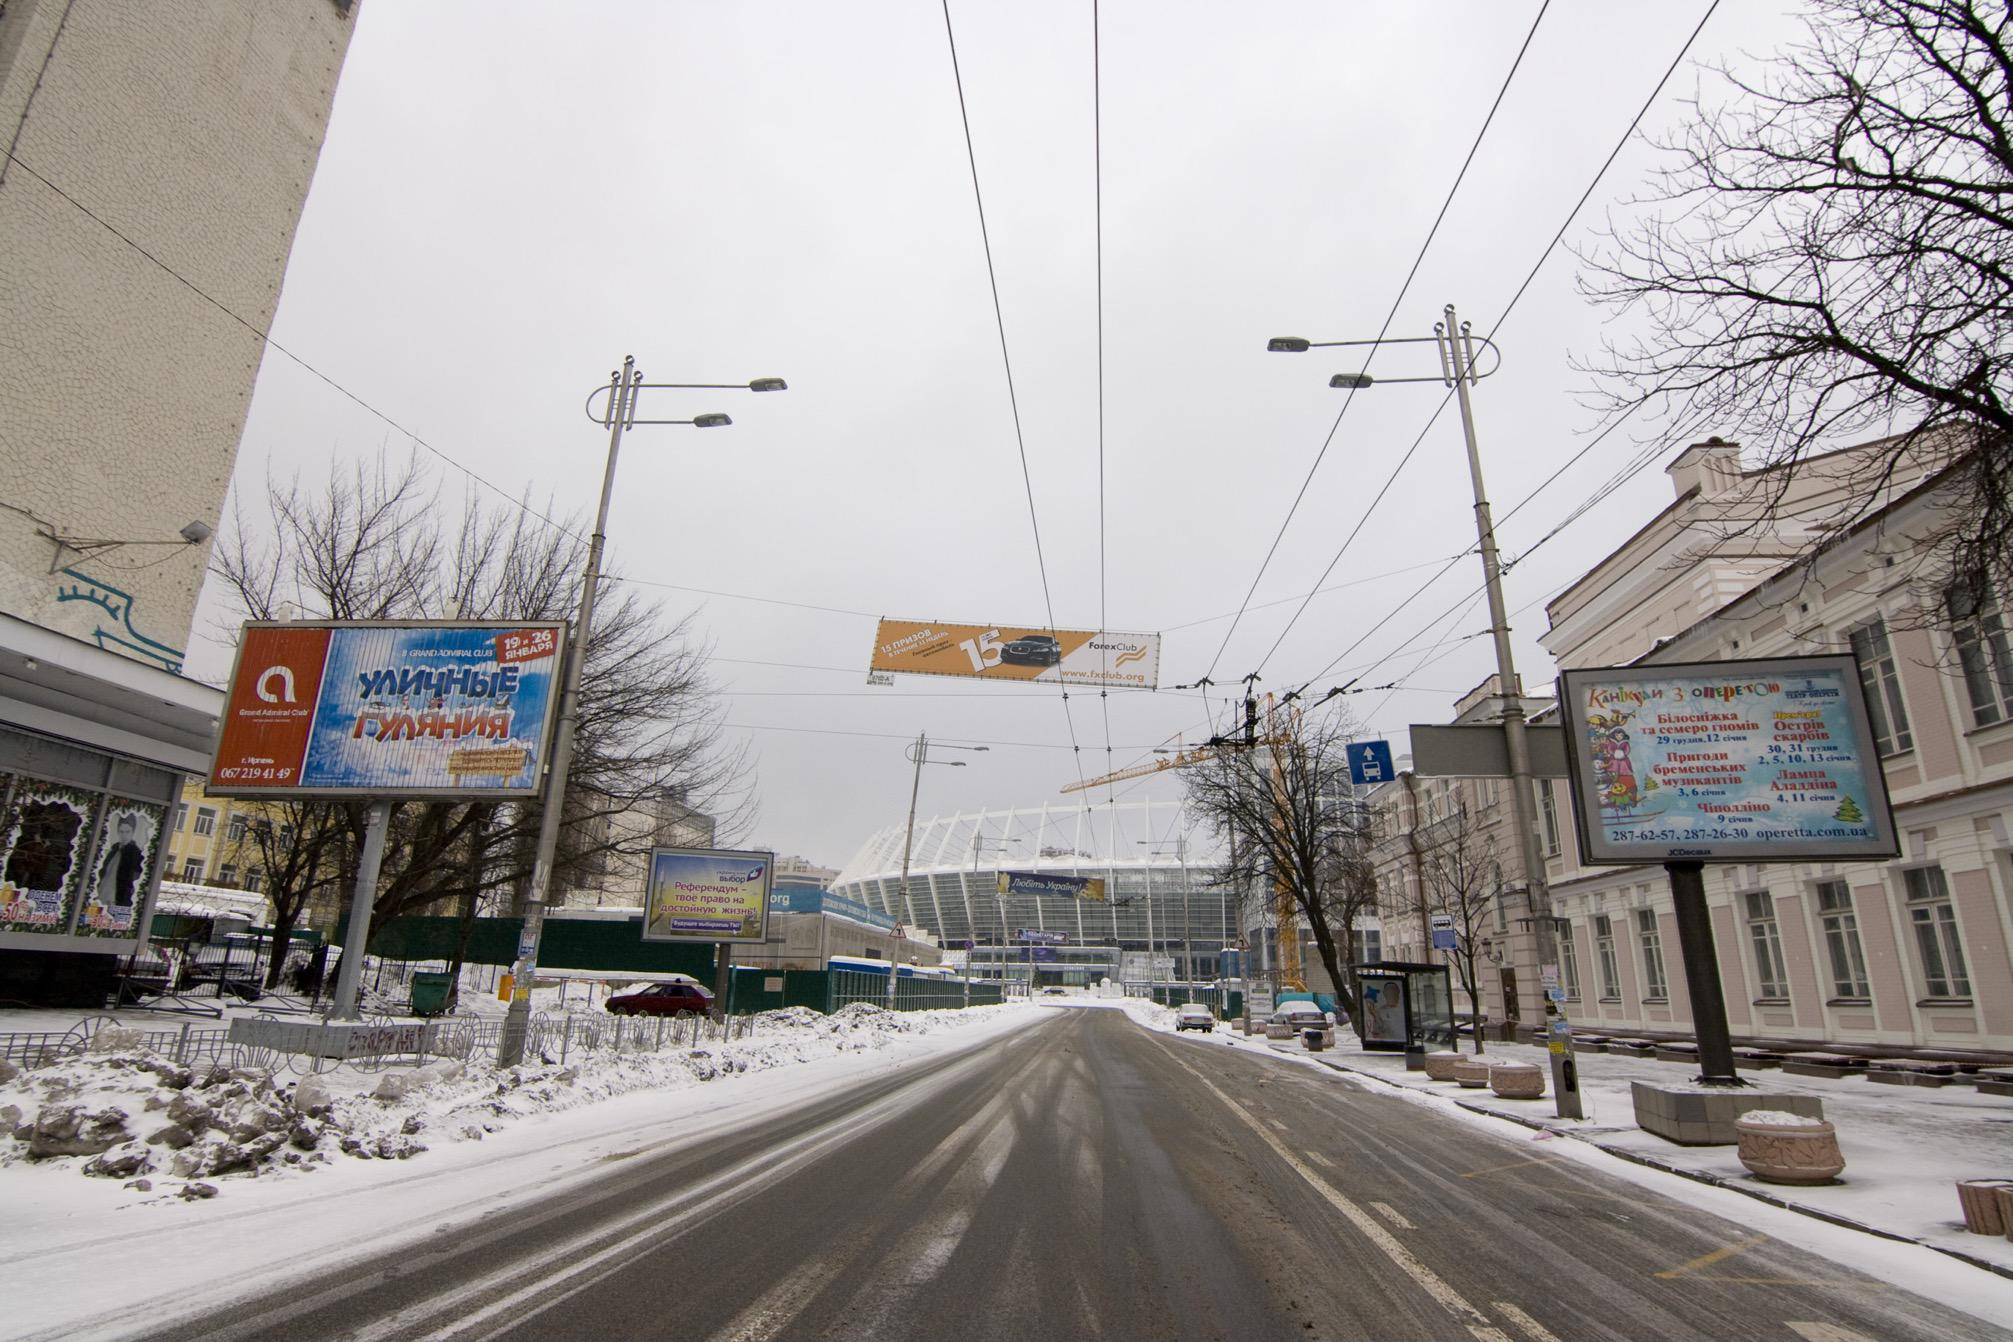vinyl banner: (863, 595, 1171, 716)
